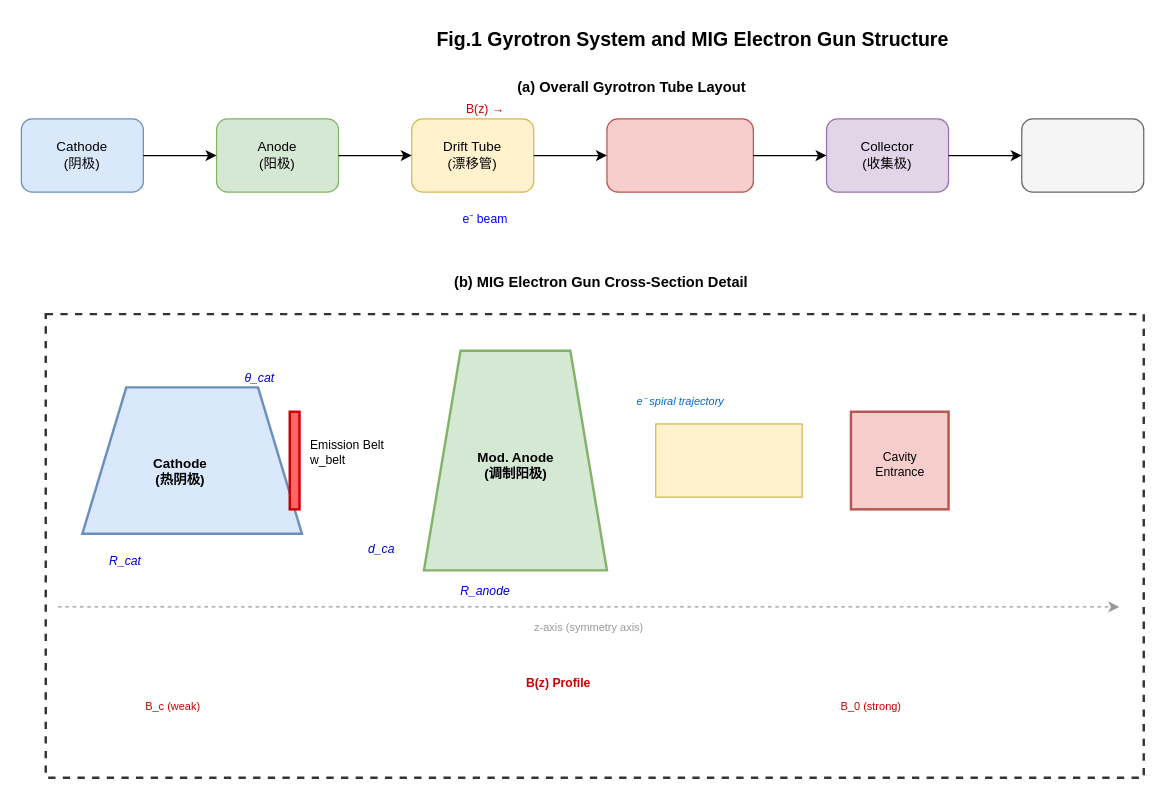
This 1166x799 diagram has some shape labels left out. Each missing label, with the box of its shape:
Cavity (互作用腔): (606, 118, 753, 192)
Drift Region: (655, 423, 802, 497)
RF Output Window: (1021, 118, 1144, 192)
